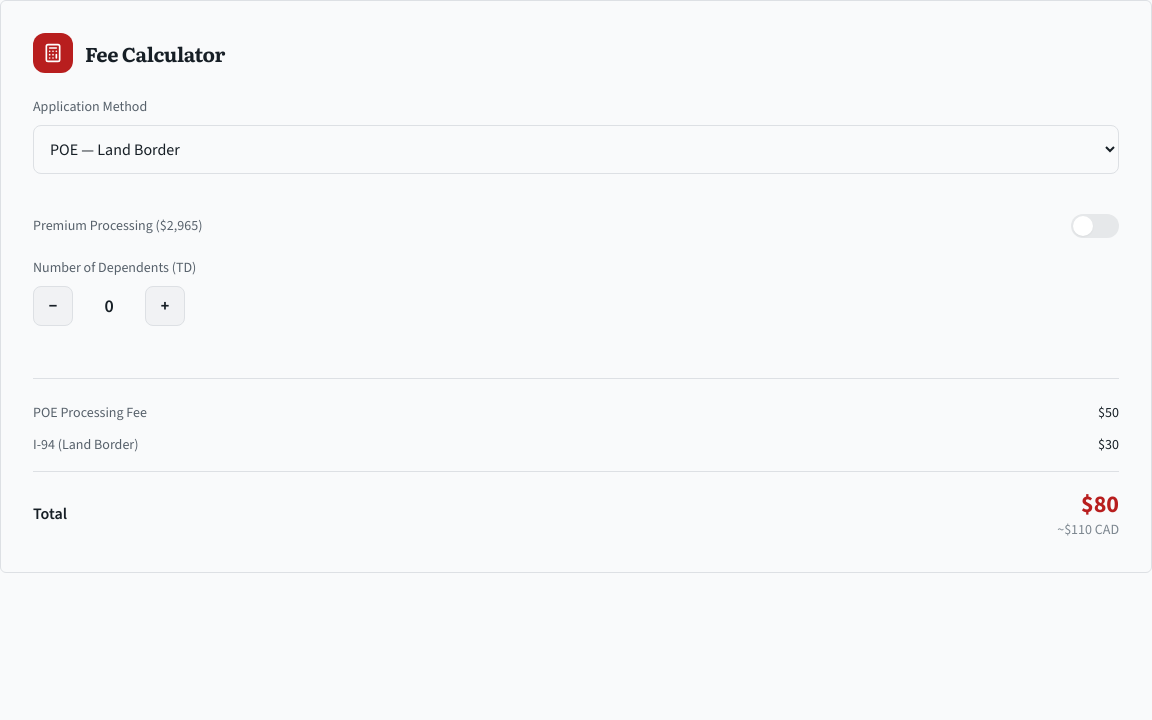
it: FeeCalculator › calculates dependent fees
Click the button named "Increase dependents": (165, 306) [145,286,185,326]
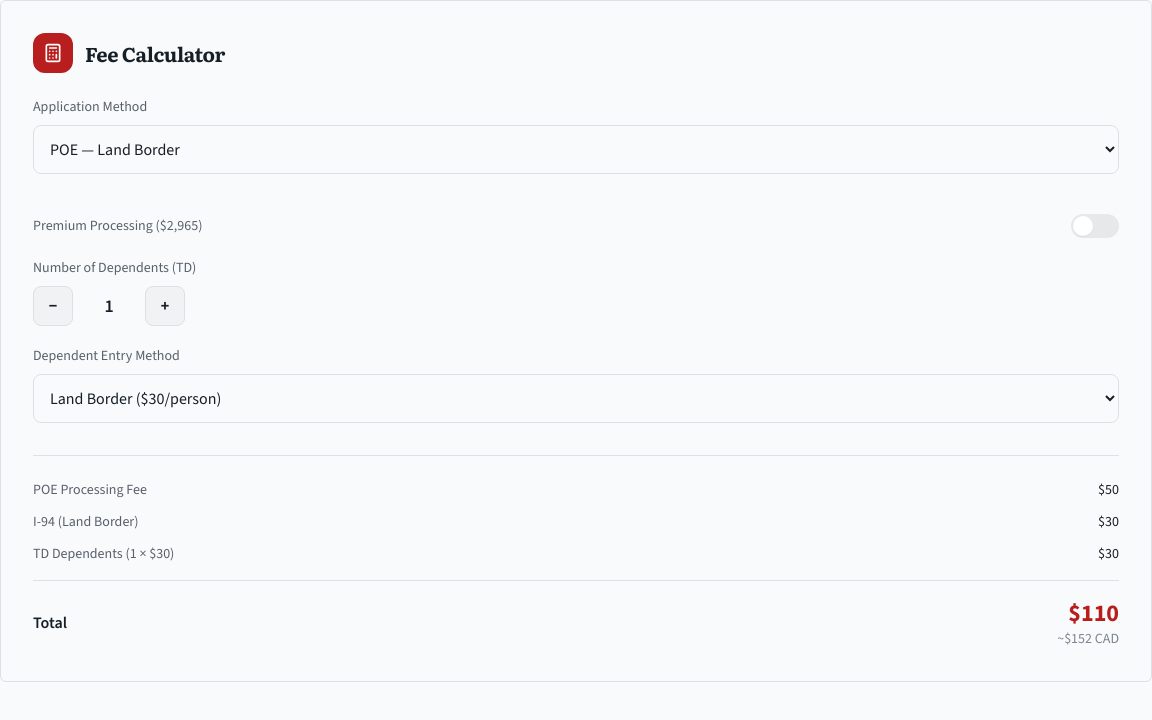
Click the button named "Increase dependents": (165, 306) [145,286,185,326]
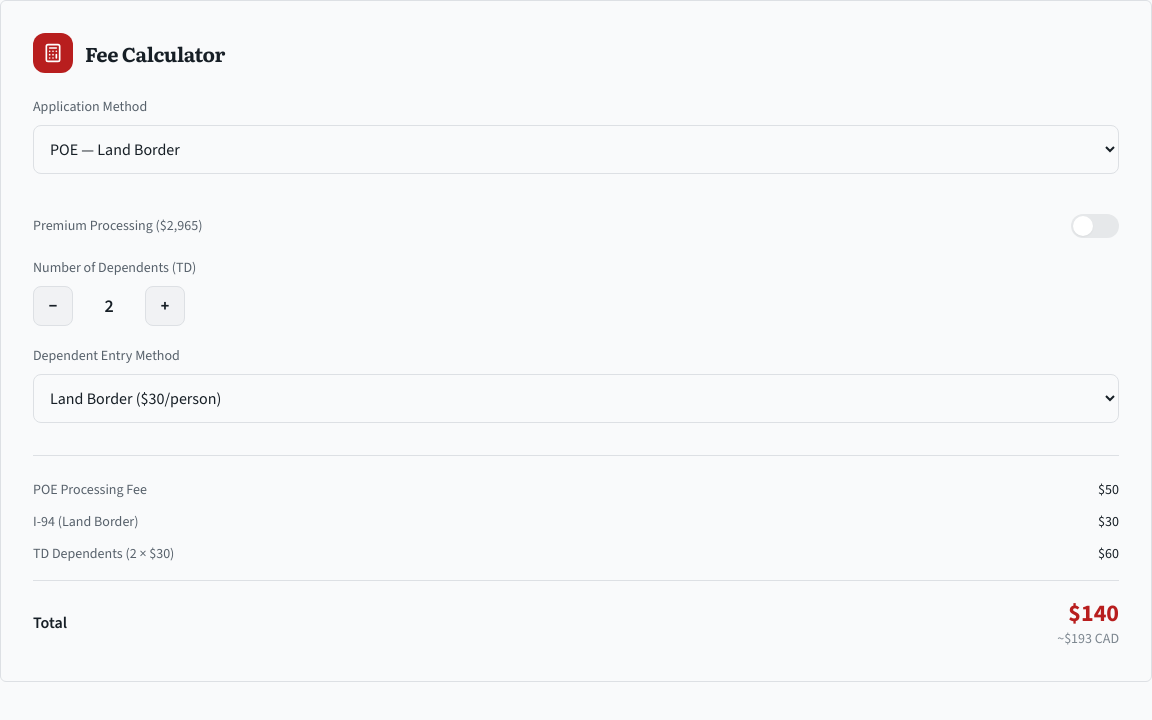
Now the text "$140" is shown, box [1068,597,1119,629]
